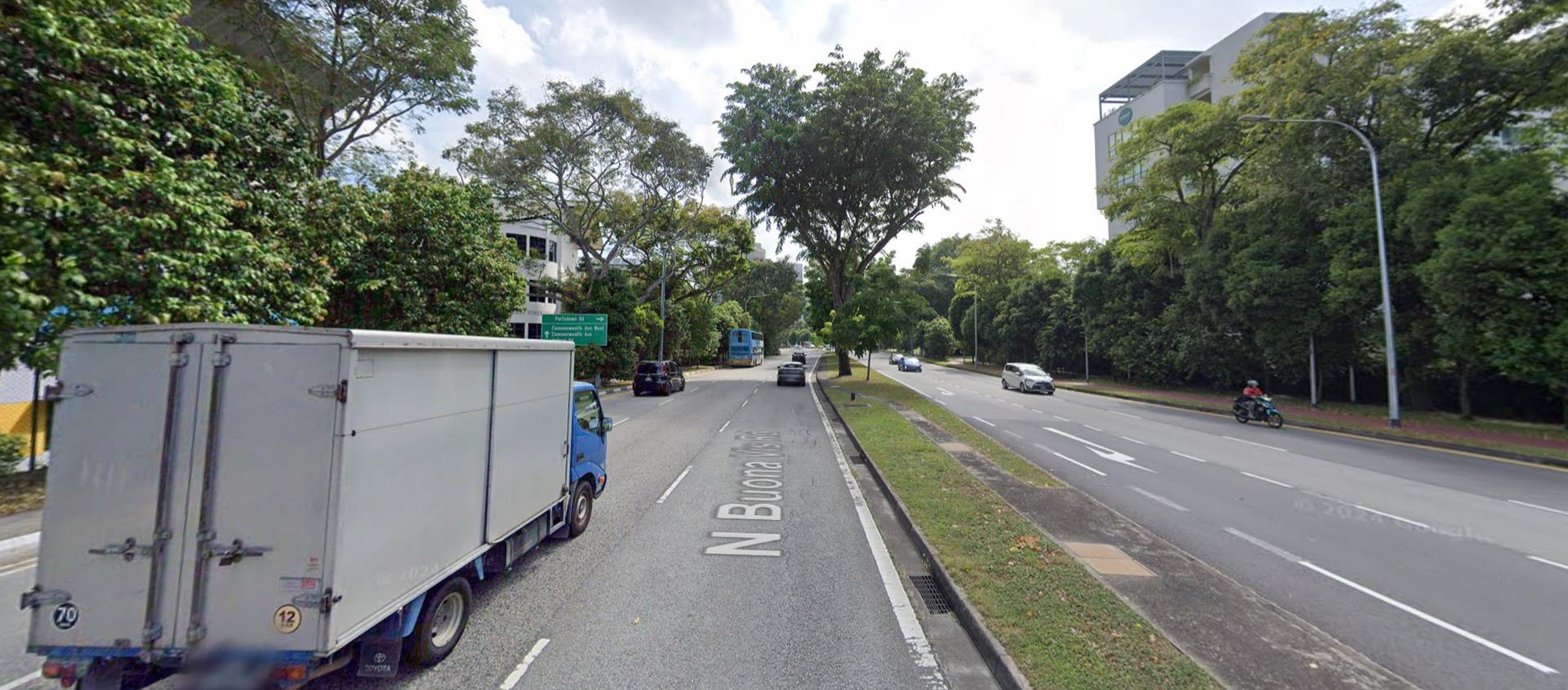normal: (909, 575, 953, 614)
